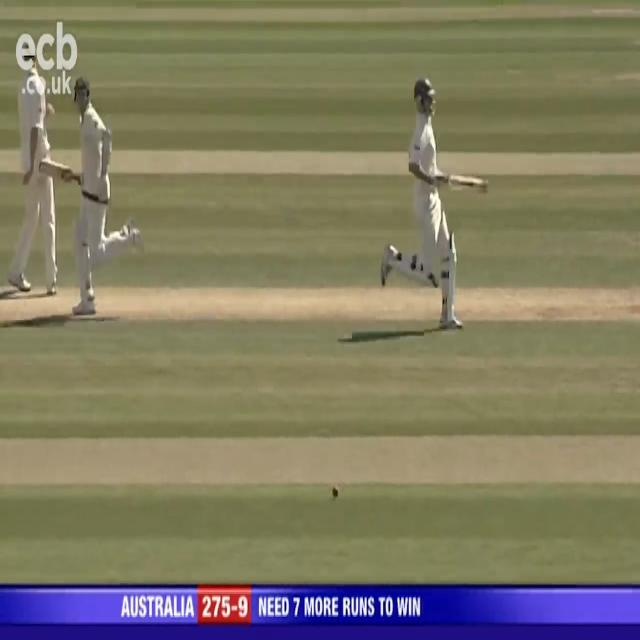ball: (330, 481, 341, 504)
